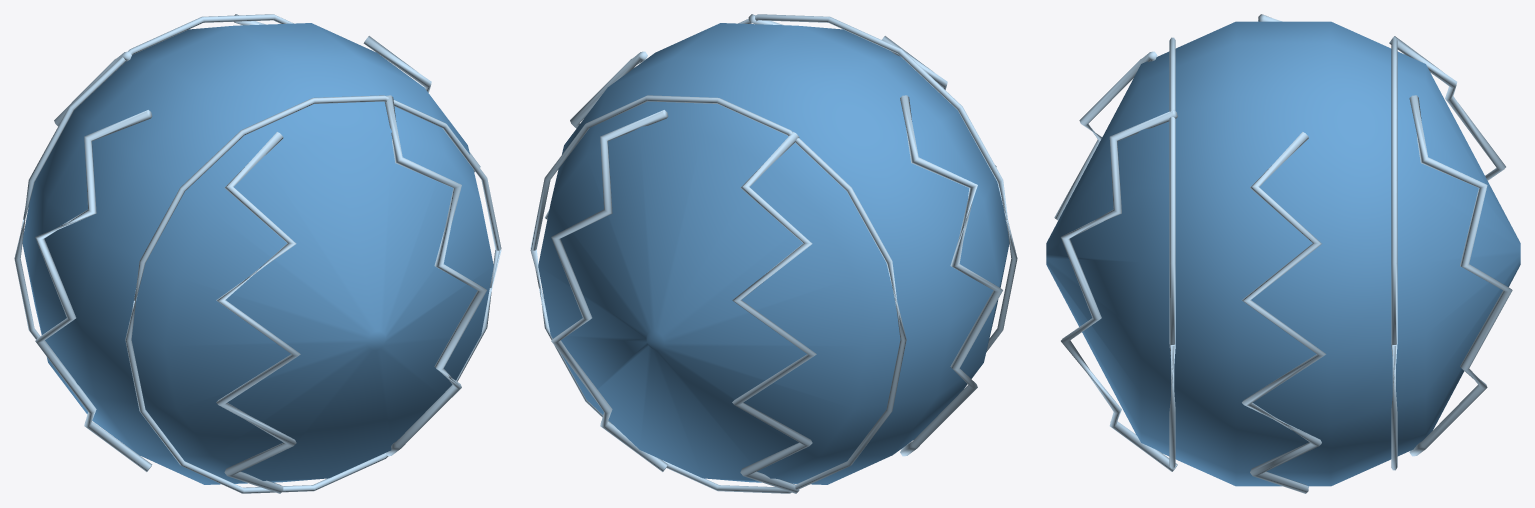
The model's file is NEA0001_source.obj.
3 renders of one model, left to right at view 1: azimuth 30°, elevation 25°; view 2: azimuth 150°, elevation 25°; view 3: azimuth 270°, elevation 25°, orthographic.
Visible parts, largest first — view 1: NEA0001; view 2: NEA0001; view 3: NEA0001.
Part boxes in pixels (<box>): NEA0001: <box>14,14,501,493</box>; NEA0001: <box>530,14,1017,493</box>; NEA0001: <box>1046,14,1520,493</box>.
Bounding box in the file's own units: 12.19 × 11.76 × 11.99.
1 material, 1 textured.
